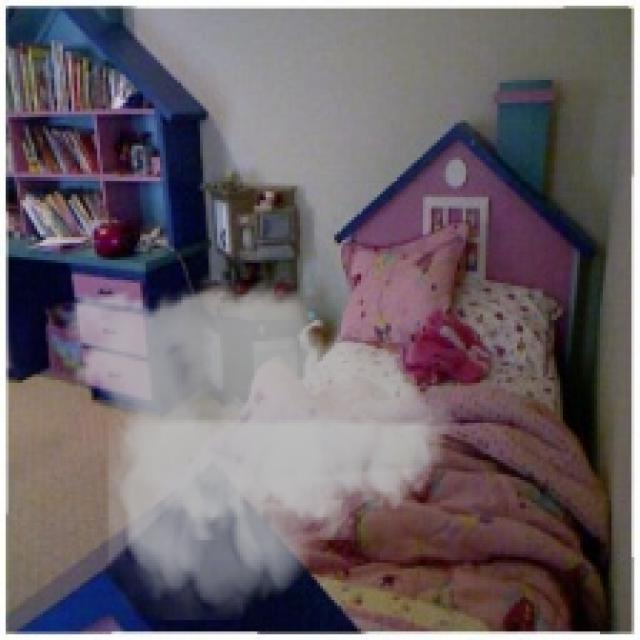Smoke: (42, 269, 468, 620)
